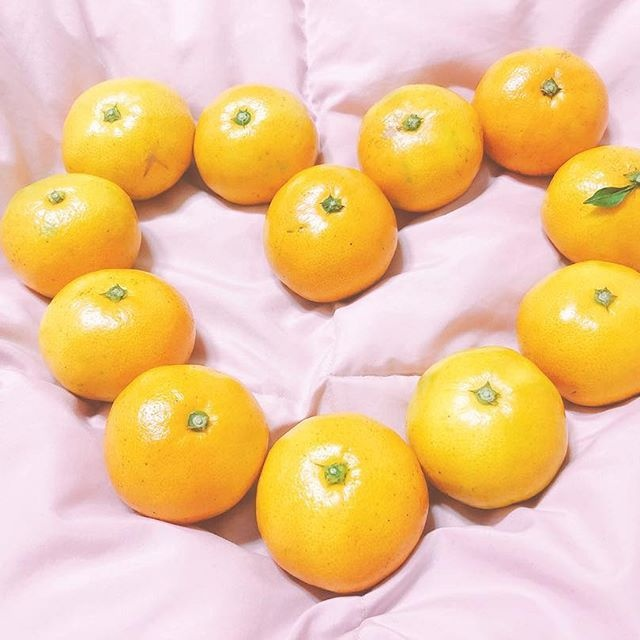mandarin: (255, 415, 430, 598), (409, 348, 575, 510), (107, 367, 268, 525), (39, 266, 195, 401), (515, 263, 640, 409), (267, 164, 396, 303), (4, 173, 144, 300), (357, 85, 486, 217), (477, 48, 607, 176), (191, 85, 319, 206), (63, 78, 195, 193), (539, 146, 640, 273)
